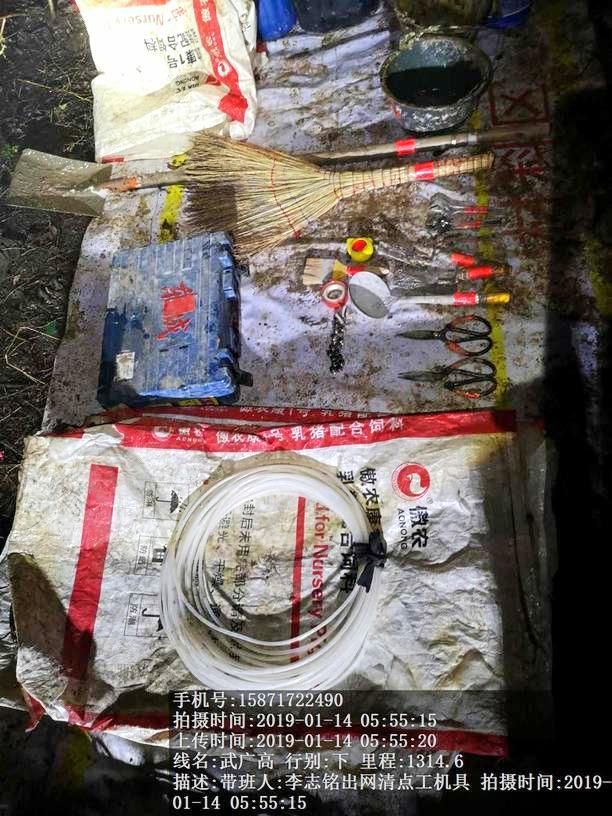BZD: (20, 410, 579, 698)
SB: (174, 118, 503, 236)
SG: (154, 473, 380, 683)
SNT: (369, 46, 507, 123)
TQ: (7, 136, 177, 235)
